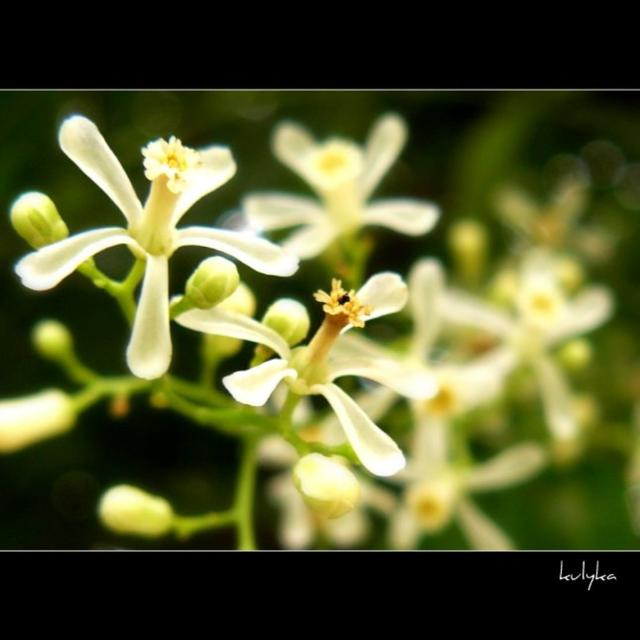Flower: (29, 94, 282, 380), (172, 273, 440, 473), (434, 256, 616, 440), (244, 118, 441, 264), (362, 404, 546, 552)
